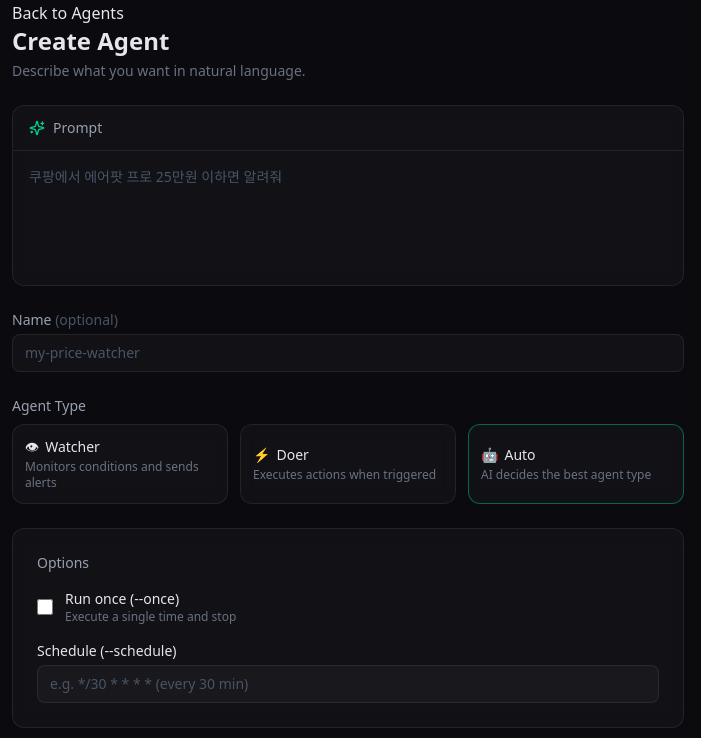
NewAgentPage › should enable buttons when prompt has text
The width and height of the screenshot is (701, 738).
Type "Monitor CPU usage" into the text box labelled "Prompt". click: (348, 215)
box: [13,151,683,279]
(page scrolled)
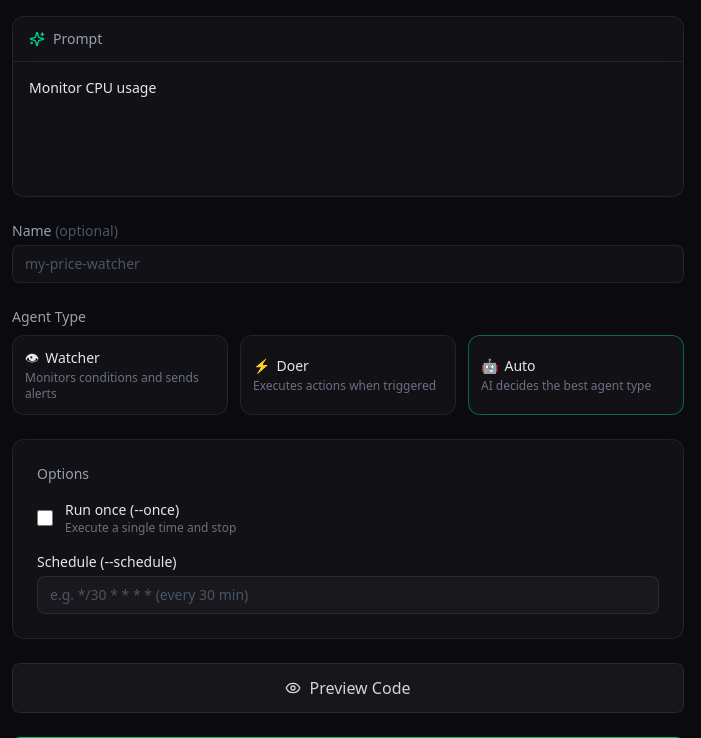
Expected: the button "Preview Code" is enabled, [12,663,684,713]
